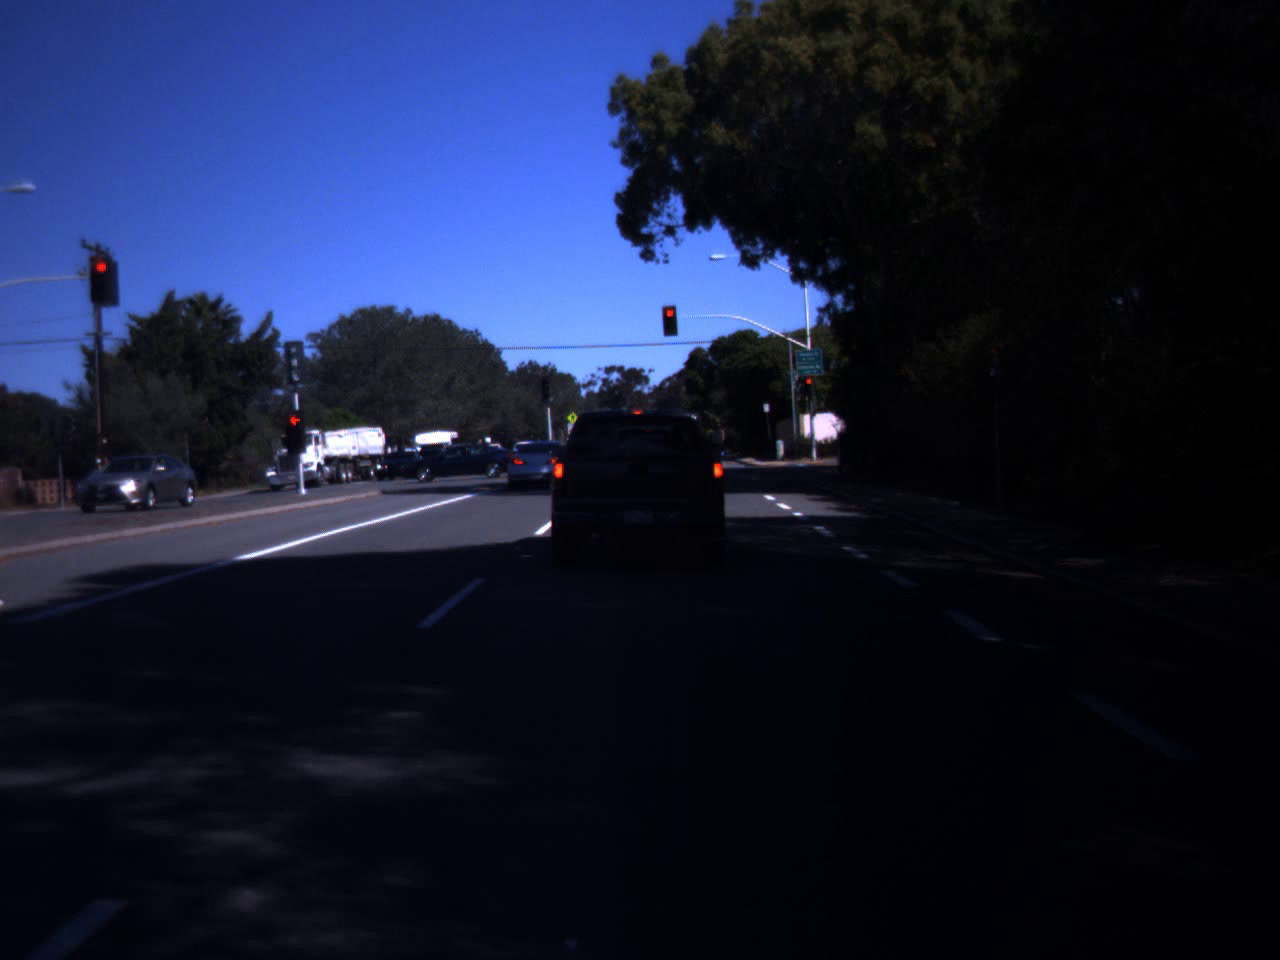stop: (90, 261, 114, 288), (661, 307, 679, 334), (286, 415, 304, 442), (802, 378, 814, 396)
